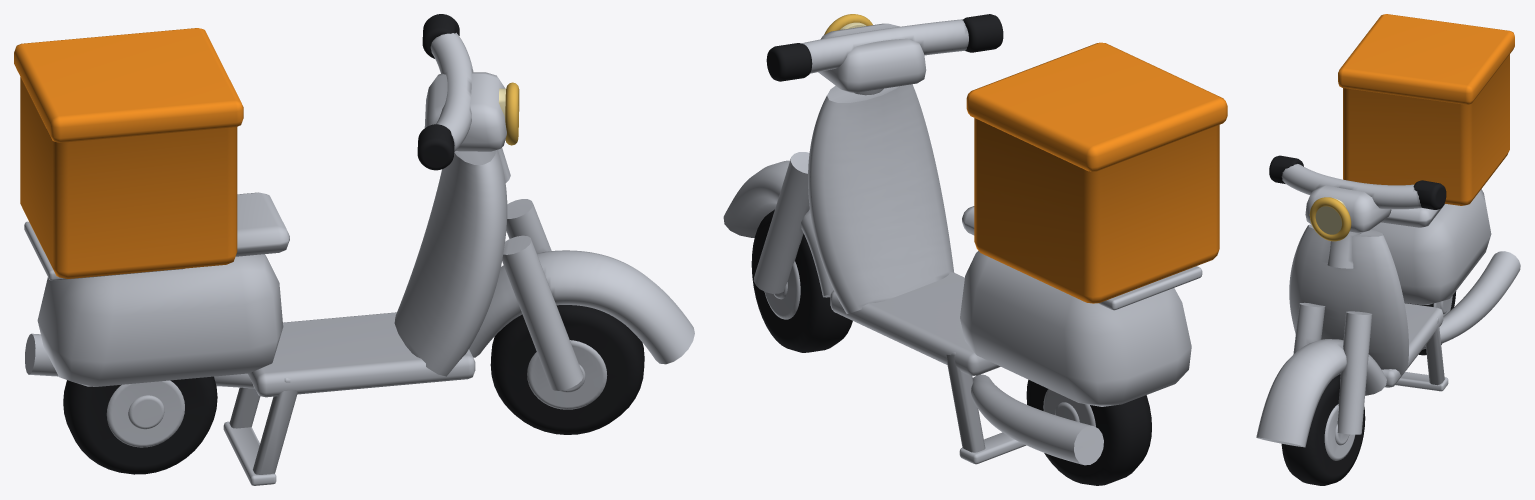
File: piece-8.glb
3 renders of one model, left to right at view 1: azimuth 30°, elevation 25°; view 2: azimuth 150°, elevation 25°; view 3: azimuth 270°, elevation 25°, orthographic. The views are drawn at different scales.
Parts seen in each view (by area): view 1: Cylinder; view 2: Cylinder; view 3: Cylinder.
Boxes of the visible parts, x1,y1,x2,y2 form: Cylinder: [14, 14, 694, 485]; Cylinder: [723, 14, 1227, 485]; Cylinder: [1256, 14, 1520, 485].
Size of the model in its own units: 2.25 by 1.49 by 1.2.
